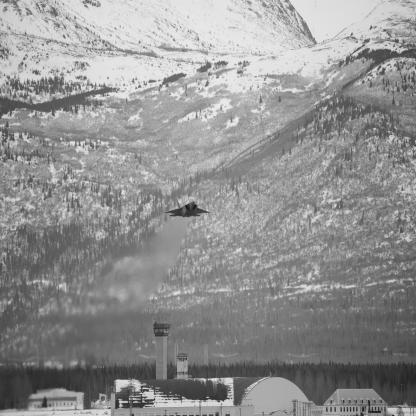F22: (164, 198, 212, 219)
